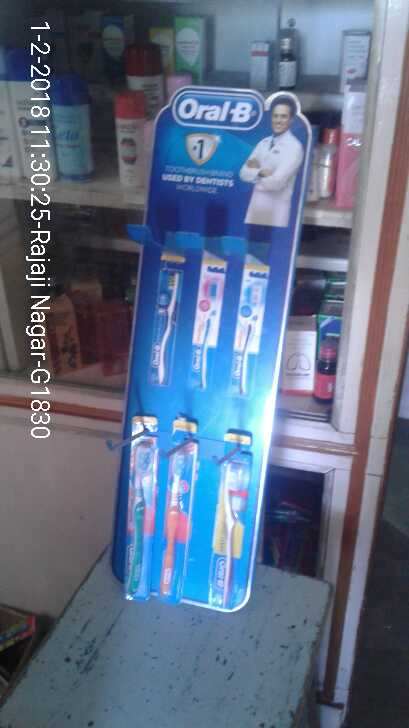oralb: (207, 444, 249, 608), (120, 438, 159, 592), (163, 441, 185, 599)
